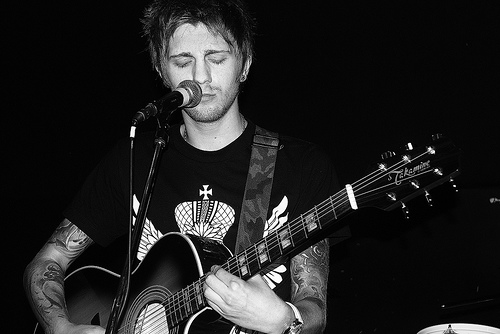guitar: (31, 144, 472, 334)
